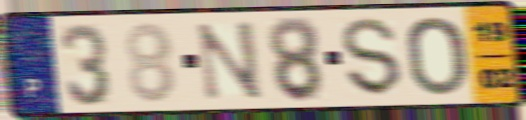3: (58, 20, 112, 108)
8: (266, 13, 327, 105), (124, 19, 178, 106)
N: (193, 18, 266, 103)
O: (403, 14, 470, 98)
S: (339, 16, 405, 99)
